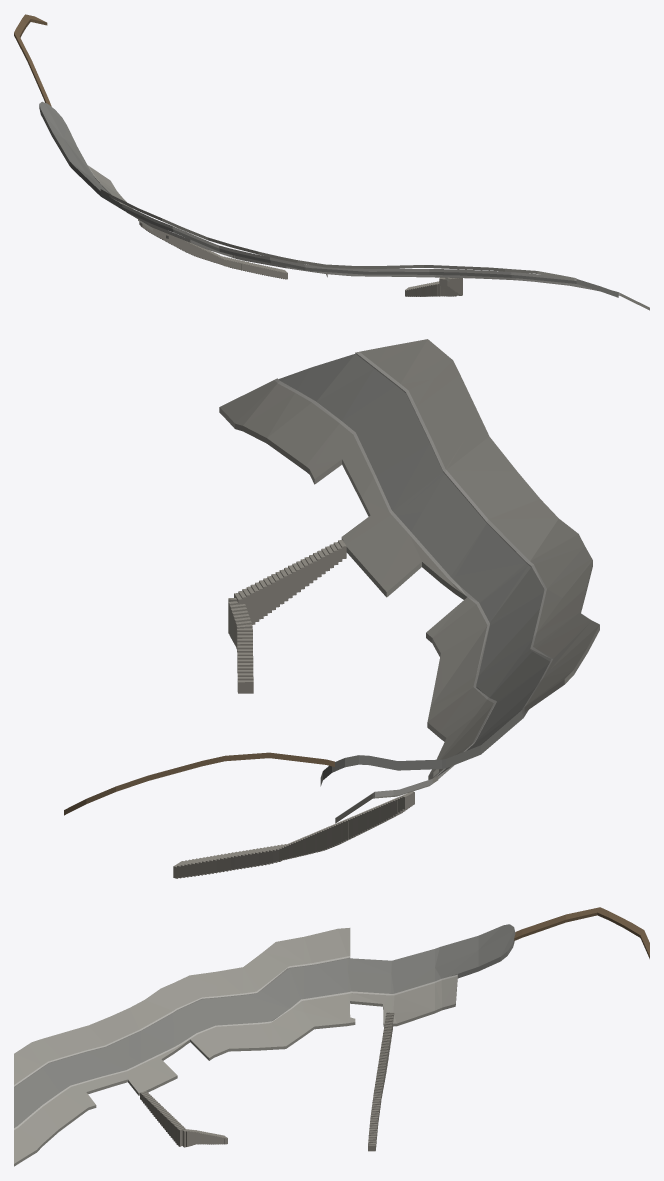
Rendered from 18-218907-118974.9bef688e.glb.
3 views of the same model, one above another, from view 1: azimuth 30°, elevation 25°; view 2: azimuth 150°, elevation 25°; view 3: azimuth 270°, elevation 25° (orthographic). The views are drawn at different scales.
Size of the model in its own units: 90.18 by 44.75 by 146.
